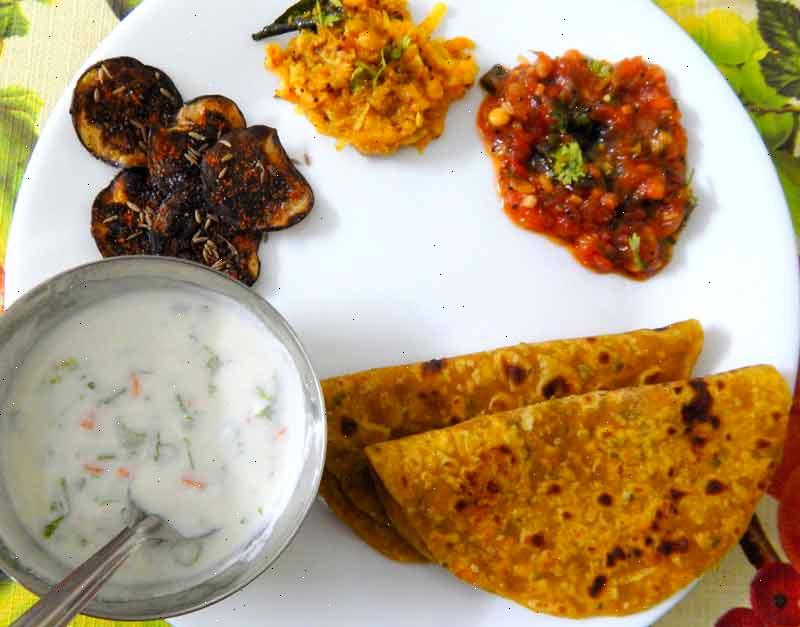thepla: (324, 315, 793, 620)
yogurt: (1, 289, 306, 601)
